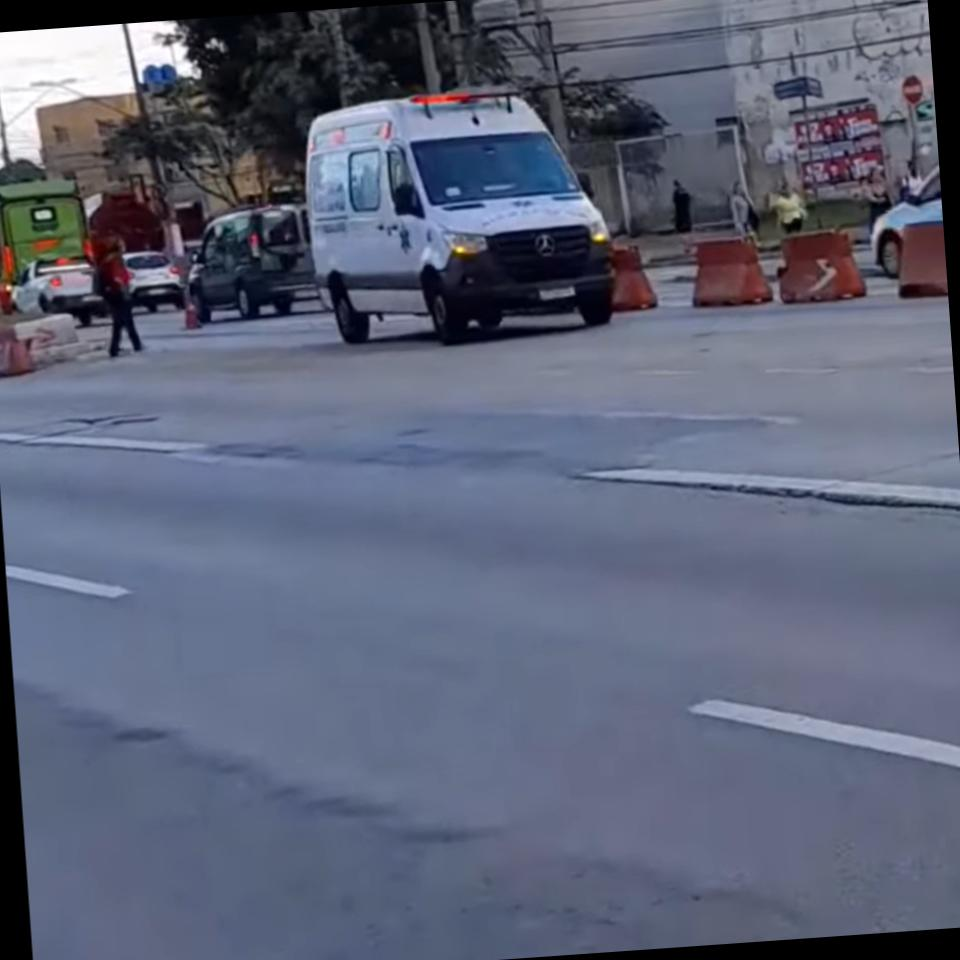bombeiro: (298, 75, 622, 355)
